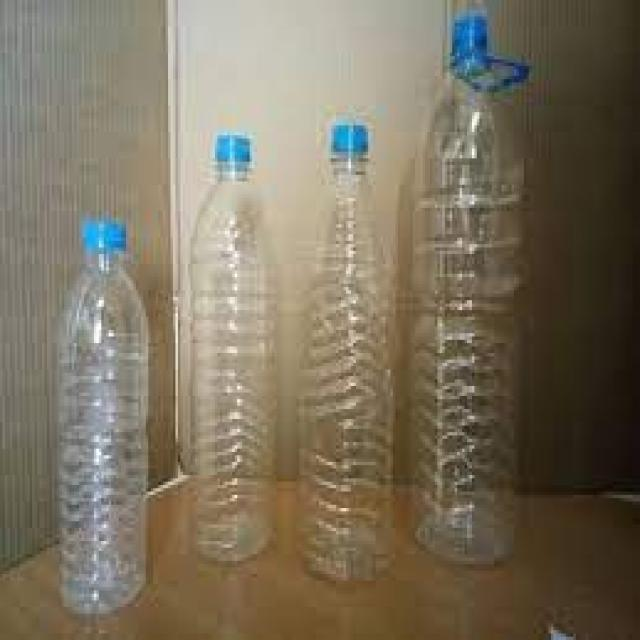plastic cup: (415, 80, 517, 563), (299, 120, 393, 580), (191, 180, 276, 562), (59, 265, 147, 613)
